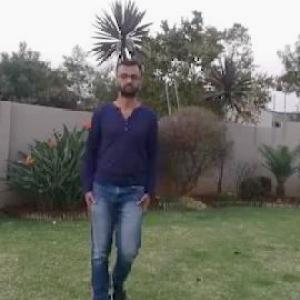follow: (85, 77, 149, 292)
